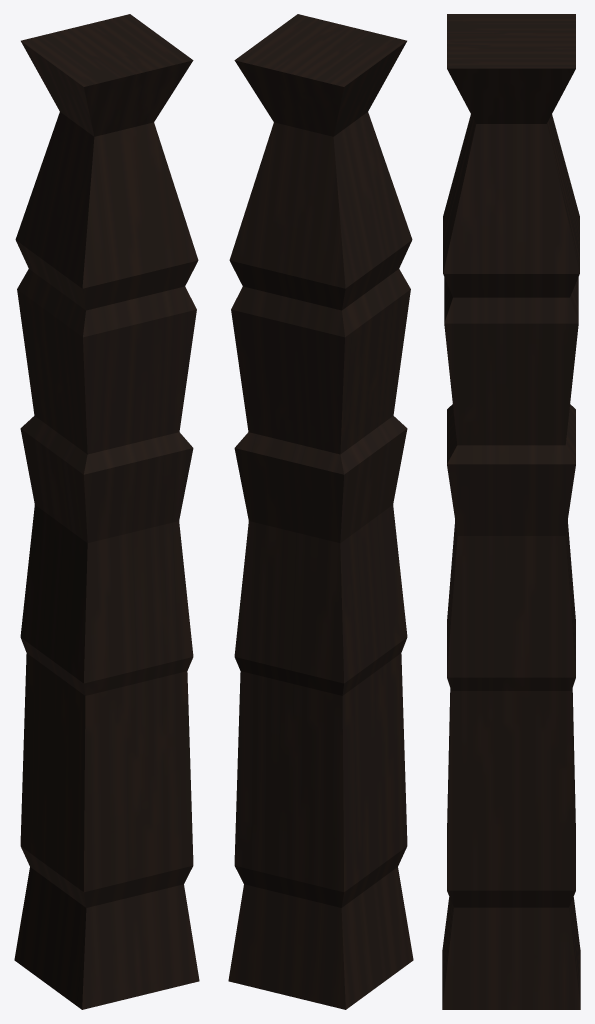
The model's file is column.fbx.
The picture shows the model from 3 angles, left to right: view 1: azimuth 30°, elevation 25°; view 2: azimuth 150°, elevation 25°; view 3: azimuth 270°, elevation 25°; orthographic projection. The views are drawn at different scales.
Parts seen in each view (by area): view 1: Cube; view 2: Cube; view 3: Cube.
Boxes of the visible parts, x1=… form: Cube: x1=14, y1=14, x2=199, y2=1009; Cube: x1=228, y1=14, x2=413, y2=1009; Cube: x1=442, y1=14, x2=580, y2=1009.
Size of the model in its own units: 176 by 1319 by 176.
1 material, 1 textured.
